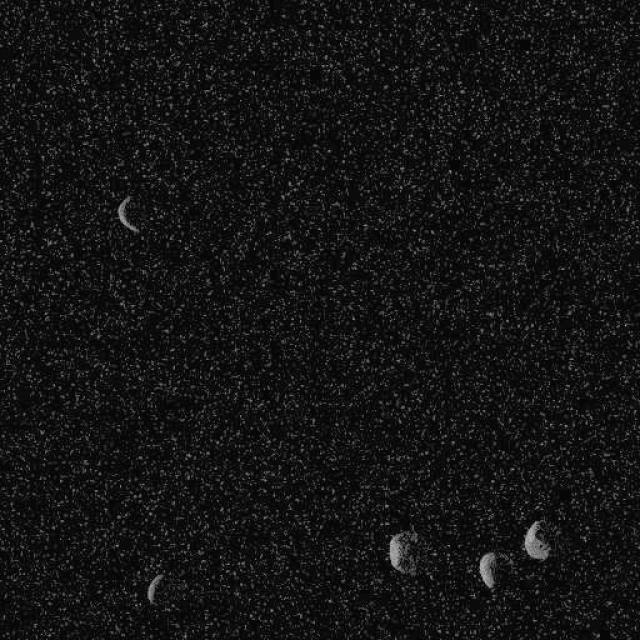D2: (388, 529, 420, 576), (521, 519, 550, 561), (116, 195, 140, 234), (478, 551, 497, 589), (145, 572, 165, 604)
